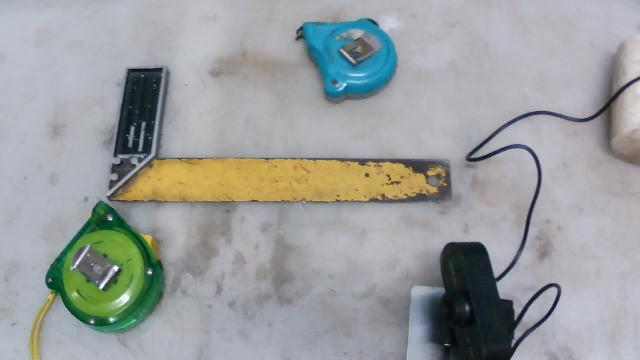penggaris_siku: (89, 55, 462, 247)
